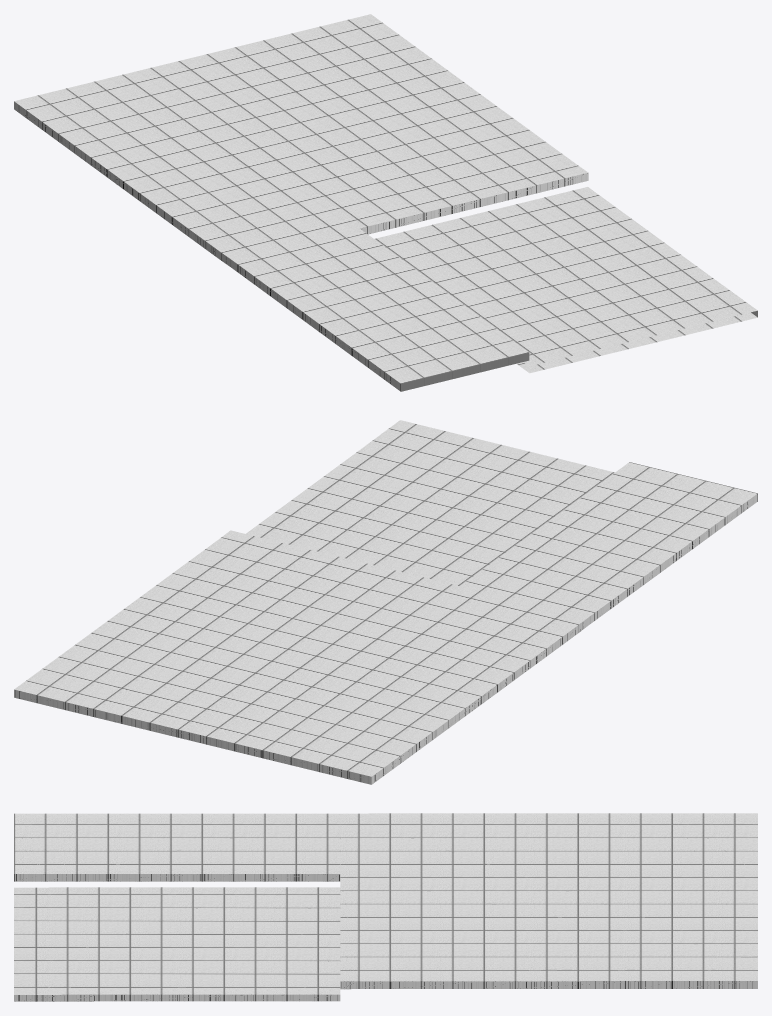
The model's file is Celling.FBX.
3 renders of one model, top to bottom at view 1: azimuth 30°, elevation 25°; view 2: azimuth 150°, elevation 25°; view 3: azimuth 270°, elevation 25°, orthographic. The views are drawn at different scales.
Visible parts, largest first — view 1: Celling001; view 2: Celling001; view 3: Celling001.
Boxes of the visible parts, x1,y1,x2,y2 form: Celling001: (14,14,757,391); Celling001: (14,420,757,784); Celling001: (14,813,757,1001).
Bounding box in the file's own units: 762 × 42.66 × 1425.
